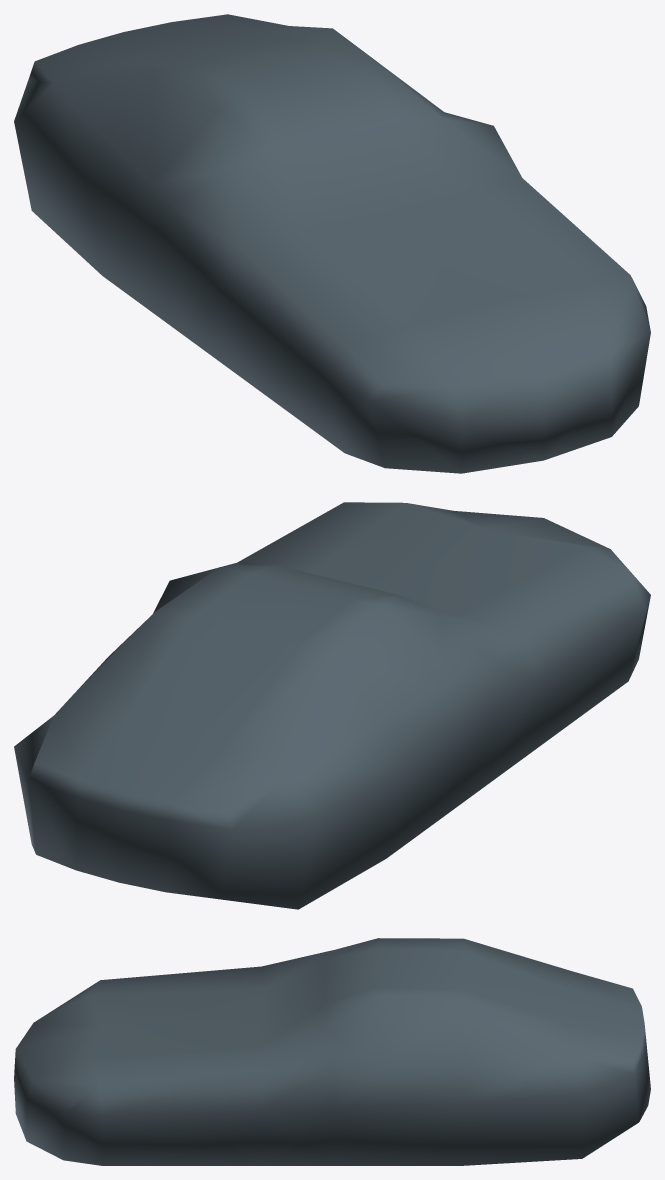
Rendered from mesh_CAR_03_collider.fbx.
The picture shows the model from 3 angles, top to bottom: view 1: azimuth 30°, elevation 25°; view 2: azimuth 150°, elevation 25°; view 3: azimuth 270°, elevation 25°; orthographic projection. The views are drawn at different scales.
Visible parts, largest first — view 1: mesh_CAR_03_collider; view 2: mesh_CAR_03_collider; view 3: mesh_CAR_03_collider.
Boxes of the visible parts, bbox=[...] form: mesh_CAR_03_collider: bbox=[14, 14, 650, 473]; mesh_CAR_03_collider: bbox=[14, 502, 650, 909]; mesh_CAR_03_collider: bbox=[14, 938, 650, 1165].
Bounding box in the file's own units: 198 × 114 × 451.
